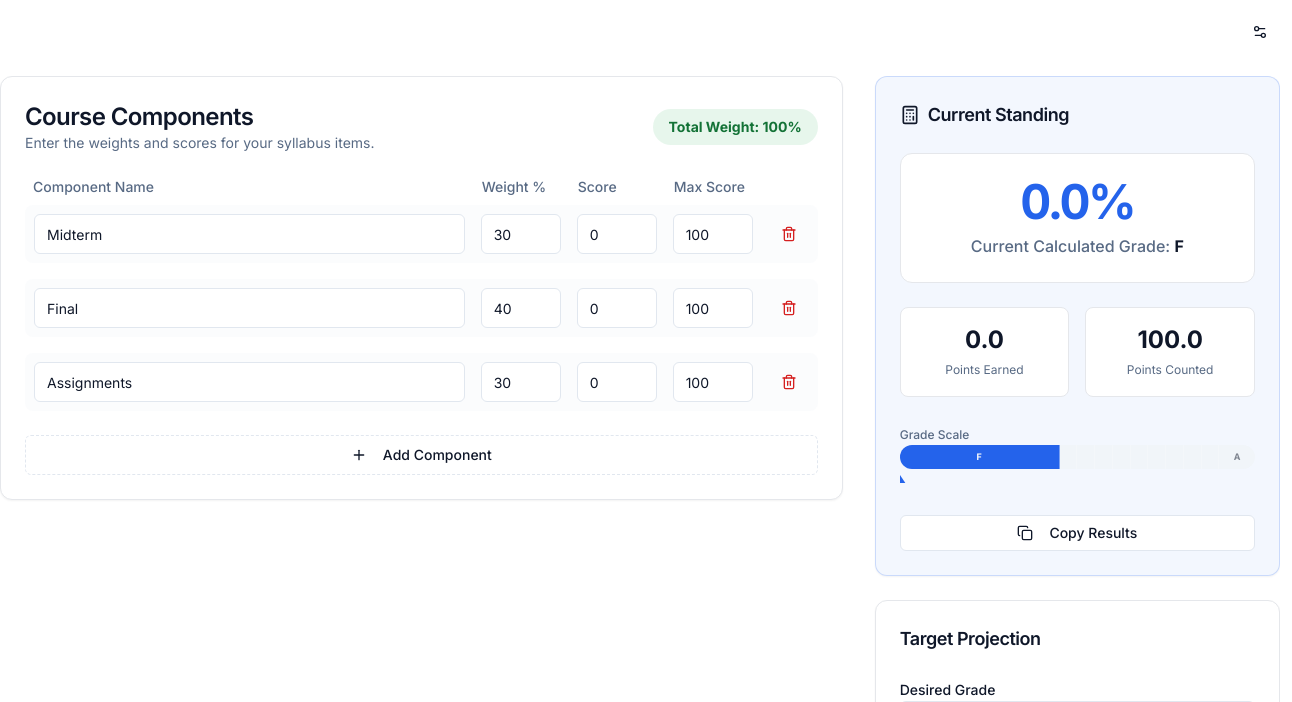
Test: GradeCalculator Component › disables remove button when only 1 component remains
# Remove 2 of 3
Click the button named "Remove component": click(789, 234) [769,214,809,254]
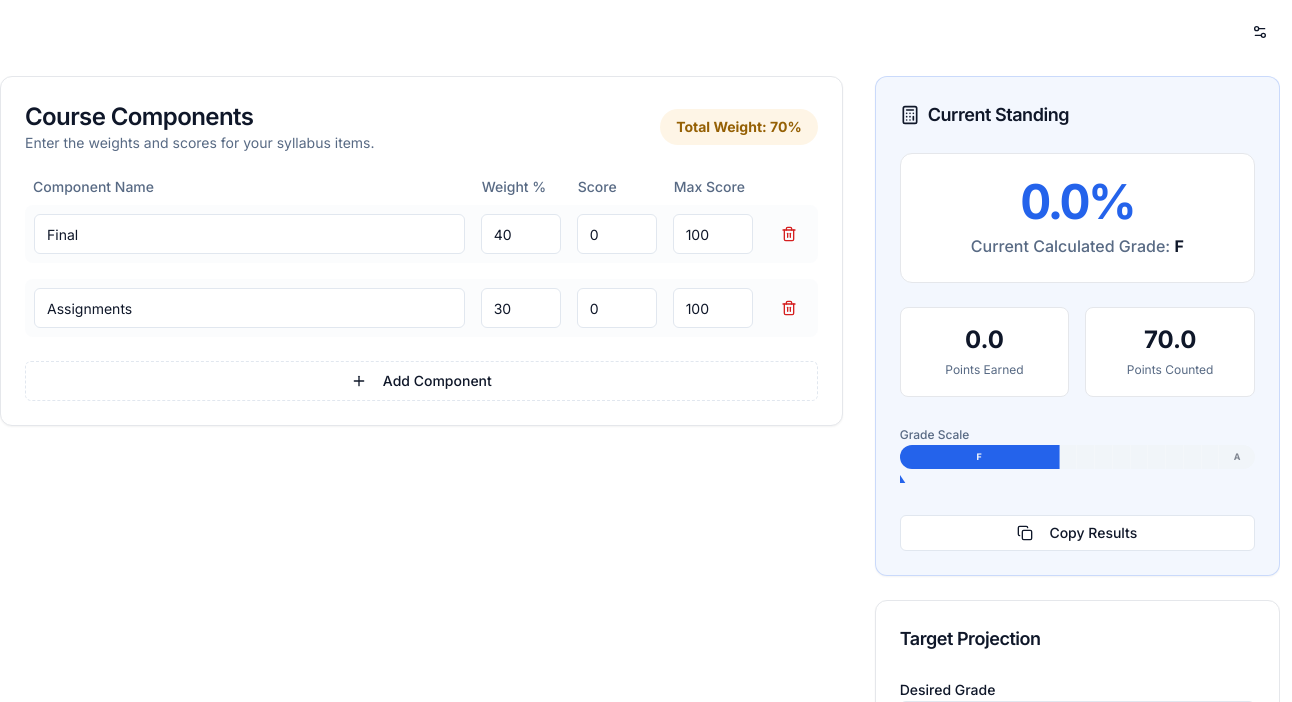
Click the button named "Remove component": click(789, 234) [769,214,809,254]
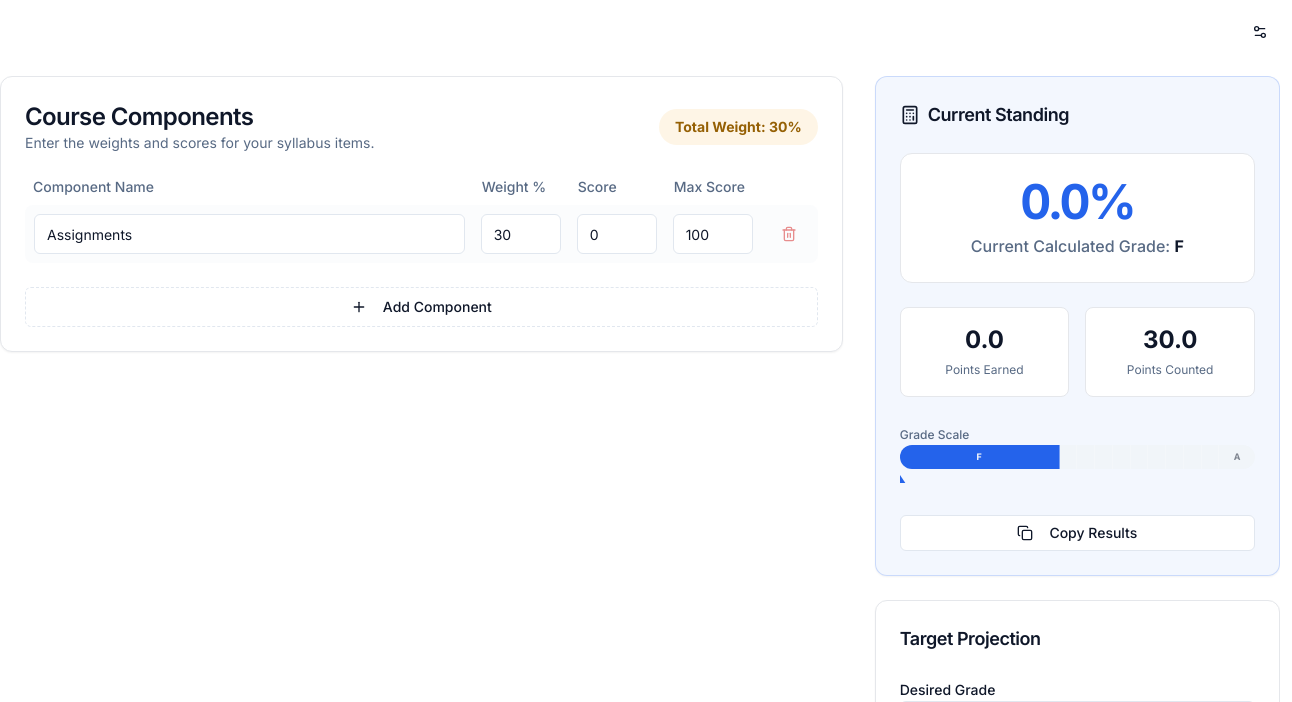
Check: the button named "Remove component" is disabled, box [769,214,809,254]
